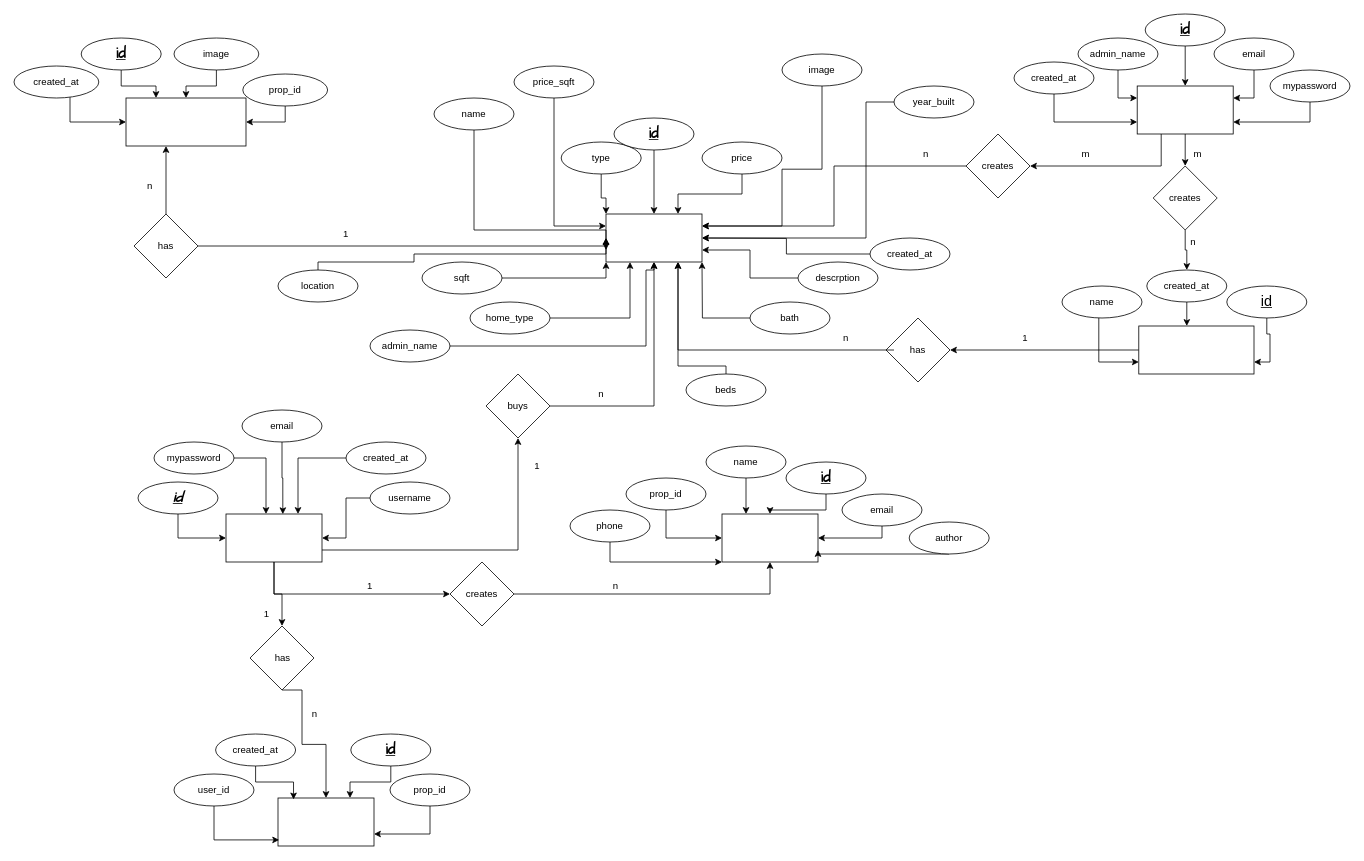
This 1364x861 diagram has some shape labels left out. The shapes that lost their labels are listed below. From the top down, each one's centre as x and y in pixels, then its label:
the point at 185,121: related_image
the point at 1184,109: admins
the point at 653,237: props
the point at 1196,349: categories
the point at 273,537: users
the point at 769,537: requests
the point at 325,821: favs
